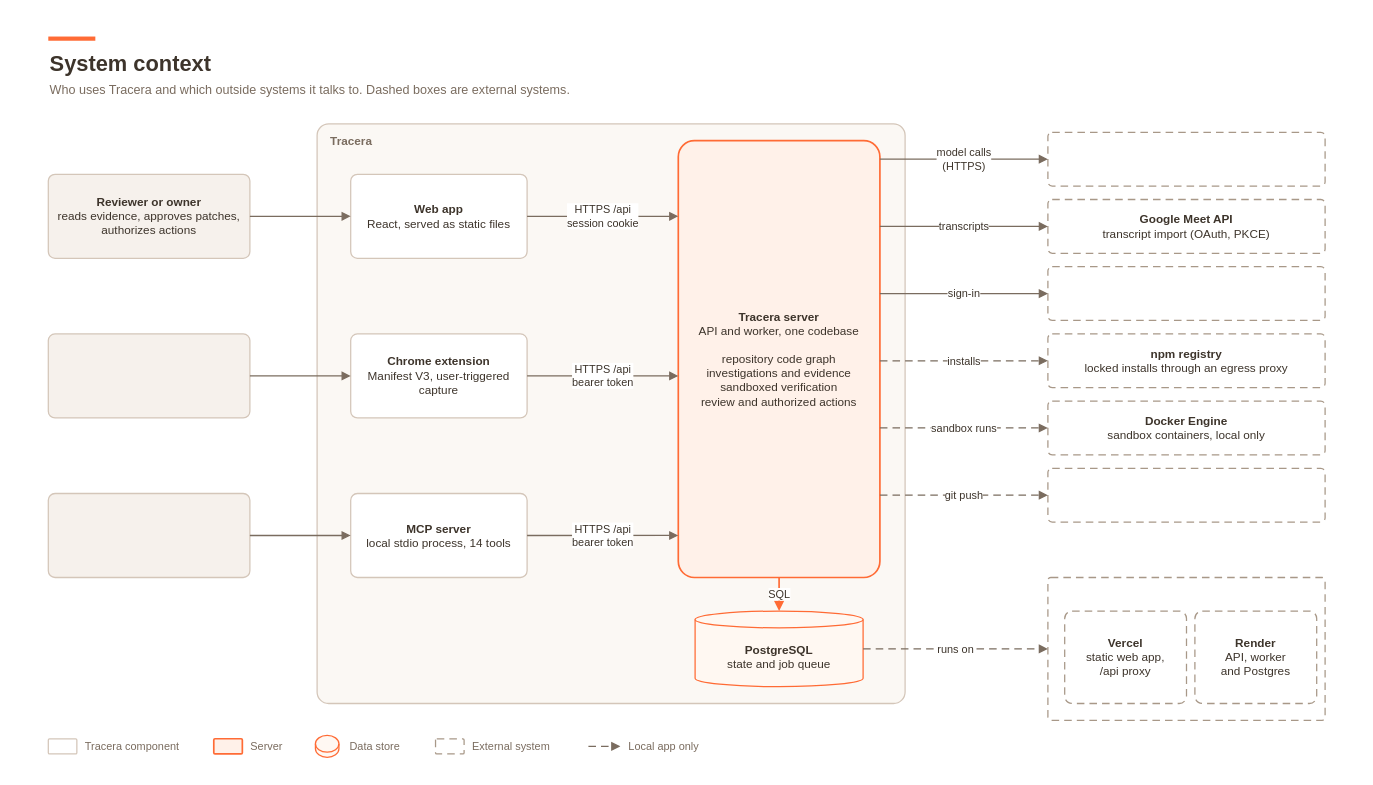
Some shapes in this 1373 by 785 pixel diagram are drawn without their labels. The shapes that lost their labels are listed below. From the top down, each one's box as (x1, y1, x2, y2) in pixels, then its label:
(1047, 131, 1325, 186): Meta Model API Muse Spark 1.3 (an OpenAI-compatible endpoint also works)
(1047, 266, 1325, 321): Supabase Auth "Continue with Google" sign-in
(47, 333, 250, 418): Bug reporter reports a bug from the page they are looking at
(1047, 467, 1325, 522): GitHub or any git remote the user's own credentials
(47, 492, 250, 578): Coding agent Claude Code or Codex acting for a developer
(1047, 576, 1325, 721): Hosted demo only
